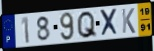1: (21, 16, 31, 45)
8: (36, 15, 52, 42)
9: (58, 12, 75, 42)
K: (121, 7, 136, 35)
Q: (76, 10, 99, 40)
X: (99, 7, 120, 38)
